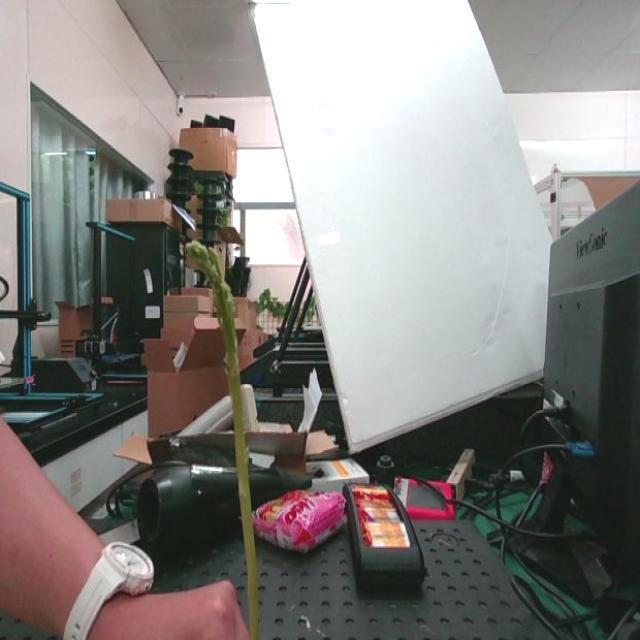aspargus: (194, 247, 259, 640)
